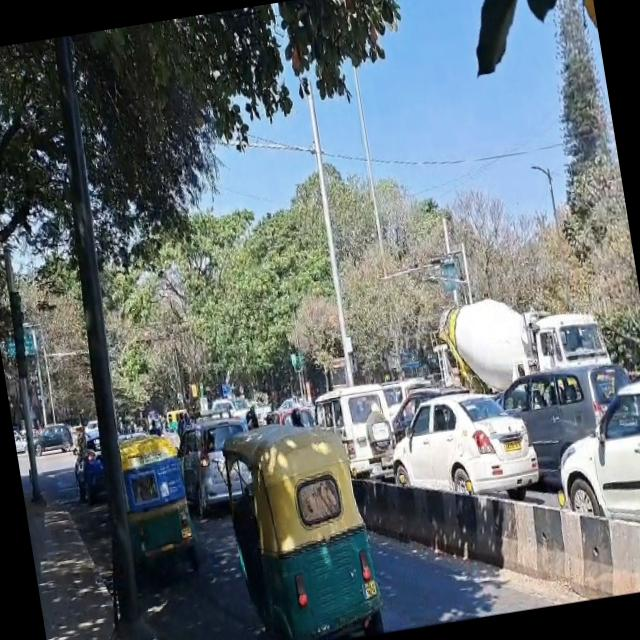cars: (387, 386, 545, 520), (504, 361, 640, 488), (548, 379, 640, 535), (313, 381, 403, 487), (172, 414, 264, 516)
